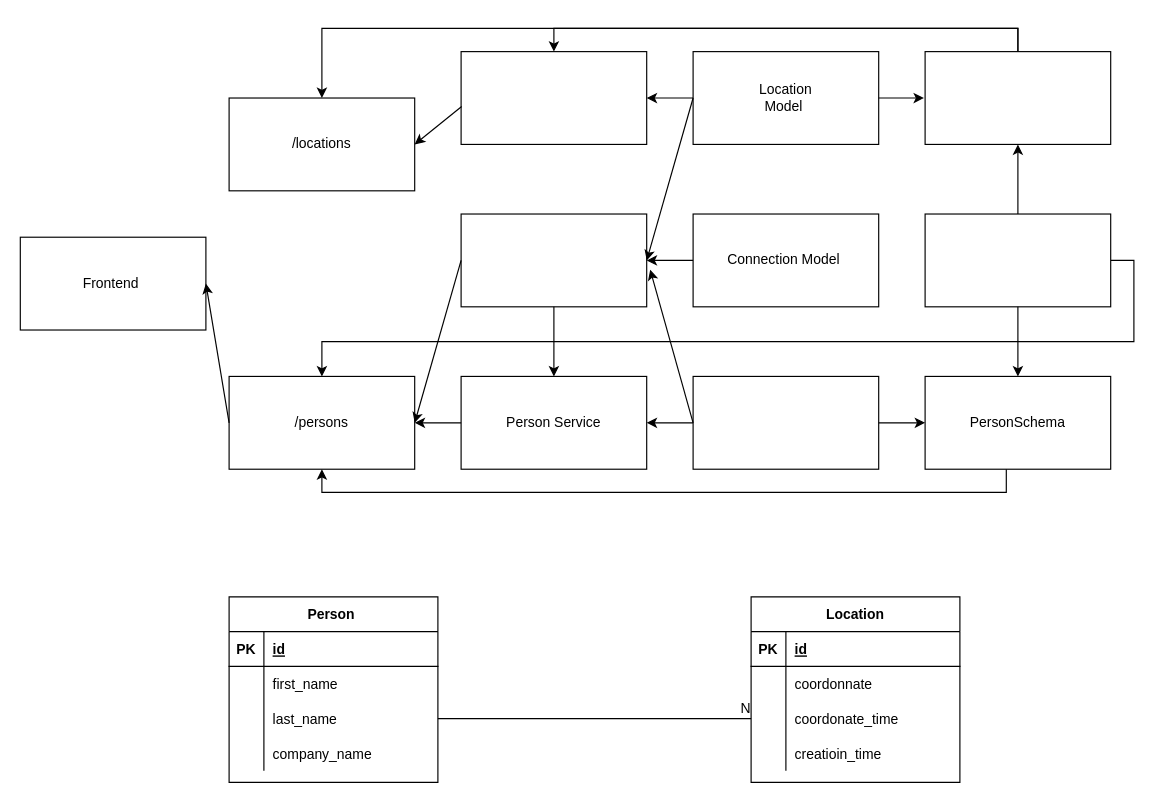
Some shapes in this 1163 by 803 pixel diagram are drawn without their labels. Here are the shapes that lost their labels. From the top down, the centre of each, then its label:
point (553, 97): Location Service
point (1017, 97): LocationSchema
point (553, 260): Connection Service
point (1017, 260): ConnectionSchema
point (785, 422): Person Model
